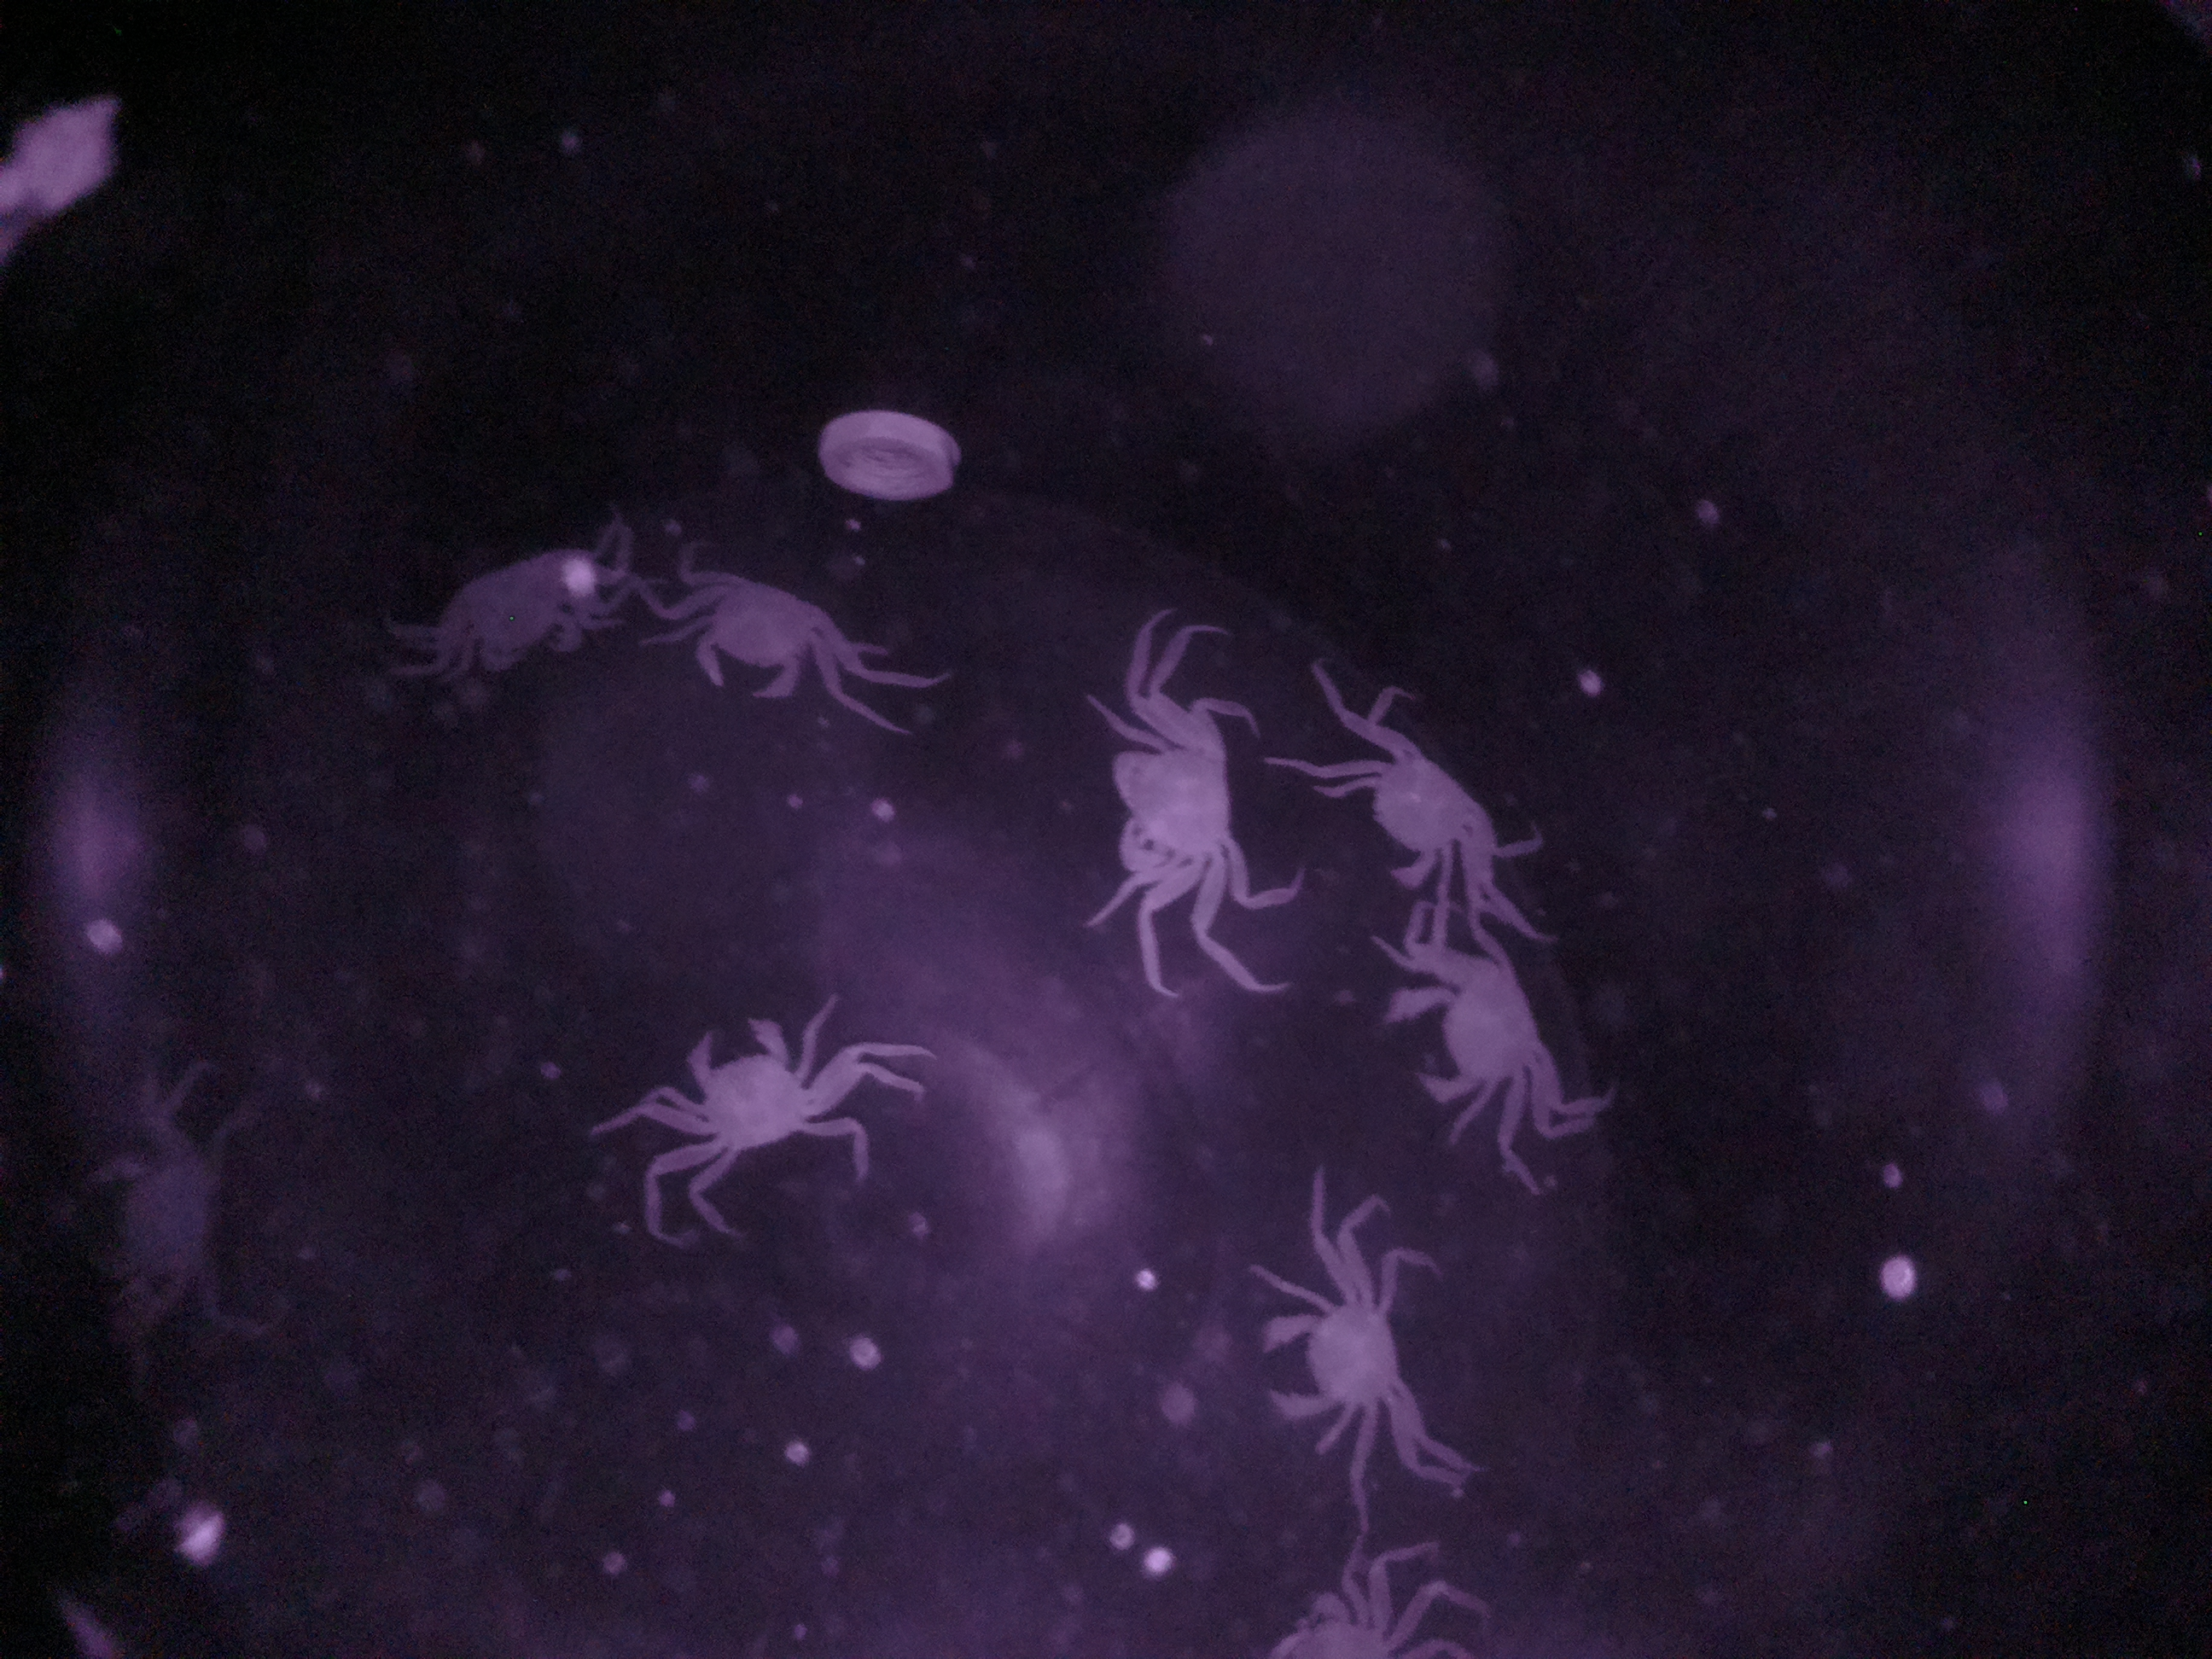Crab: (1360, 908, 1573, 1141), (643, 538, 883, 739), (1075, 685, 1252, 953), (1247, 1253, 1426, 1486), (636, 1006, 862, 1178), (1306, 711, 1514, 896)
